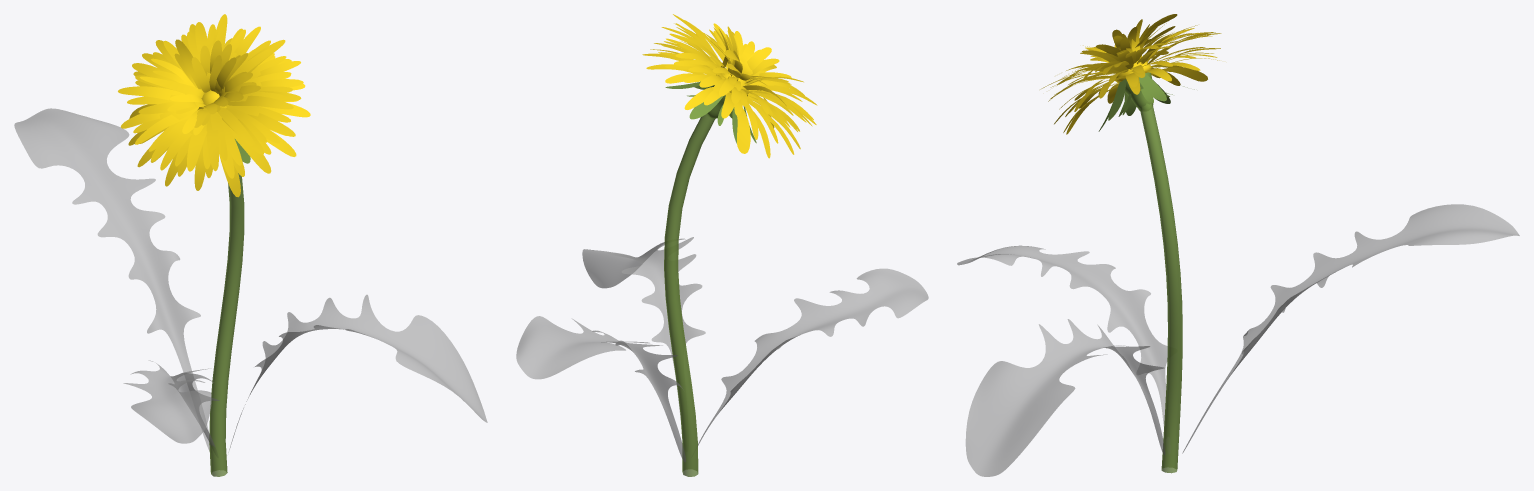
Rendered from object_EN-plants-dandelion_1.glb.
3 views of the same model, side by side, from view 1: azimuth 30°, elevation 25°; view 2: azimuth 150°, elevation 25°; view 3: azimuth 270°, elevation 25° (orthographic). The views are drawn at different scales.
Parts seen in each view (by area): view 1: GEO-plants-dandelion-petals.004, GEO-leaf.dandelion, GEO-leaf.dandelion.001, GEO-plants-dandelion-stem.1, GEO-leaf.dandelion.002; view 2: GEO-plants-dandelion-petals.004, GEO-leaf.dandelion.002, GEO-plants-dandelion-stem.1, GEO-leaf.dandelion, GEO-leaf.dandelion.001; view 3: GEO-leaf.dandelion.001, GEO-plants-dandelion-petals.004, GEO-leaf.dandelion, GEO-plants-dandelion-stem.1, GEO-leaf.dandelion.002.
Boxes of the visible parts, bbox=[...] form: GEO-plants-dandelion-petals.004: bbox=[118, 14, 310, 197]; GEO-leaf.dandelion: bbox=[14, 108, 209, 450]; GEO-leaf.dandelion.001: bbox=[228, 295, 487, 452]; GEO-plants-dandelion-stem.1: bbox=[209, 173, 244, 476]; GEO-leaf.dandelion.002: bbox=[123, 360, 219, 447]; GEO-plants-dandelion-petals.004: bbox=[642, 14, 817, 158]; GEO-leaf.dandelion.002: bbox=[697, 268, 928, 446]; GEO-plants-dandelion-stem.1: bbox=[664, 113, 715, 476]; GEO-leaf.dandelion: bbox=[516, 316, 685, 462]; GEO-leaf.dandelion.001: bbox=[582, 237, 705, 420]; GEO-leaf.dandelion.001: bbox=[965, 319, 1165, 476]; GEO-plants-dandelion-petals.004: bbox=[1040, 14, 1221, 134]; GEO-leaf.dandelion: bbox=[1182, 204, 1519, 453]; GEO-plants-dandelion-stem.1: bbox=[1140, 103, 1182, 473]; GEO-leaf.dandelion.002: bbox=[957, 245, 1167, 425].
Bounding box in the file's own units: 0.1439 × 0.1861 × 0.2121.
